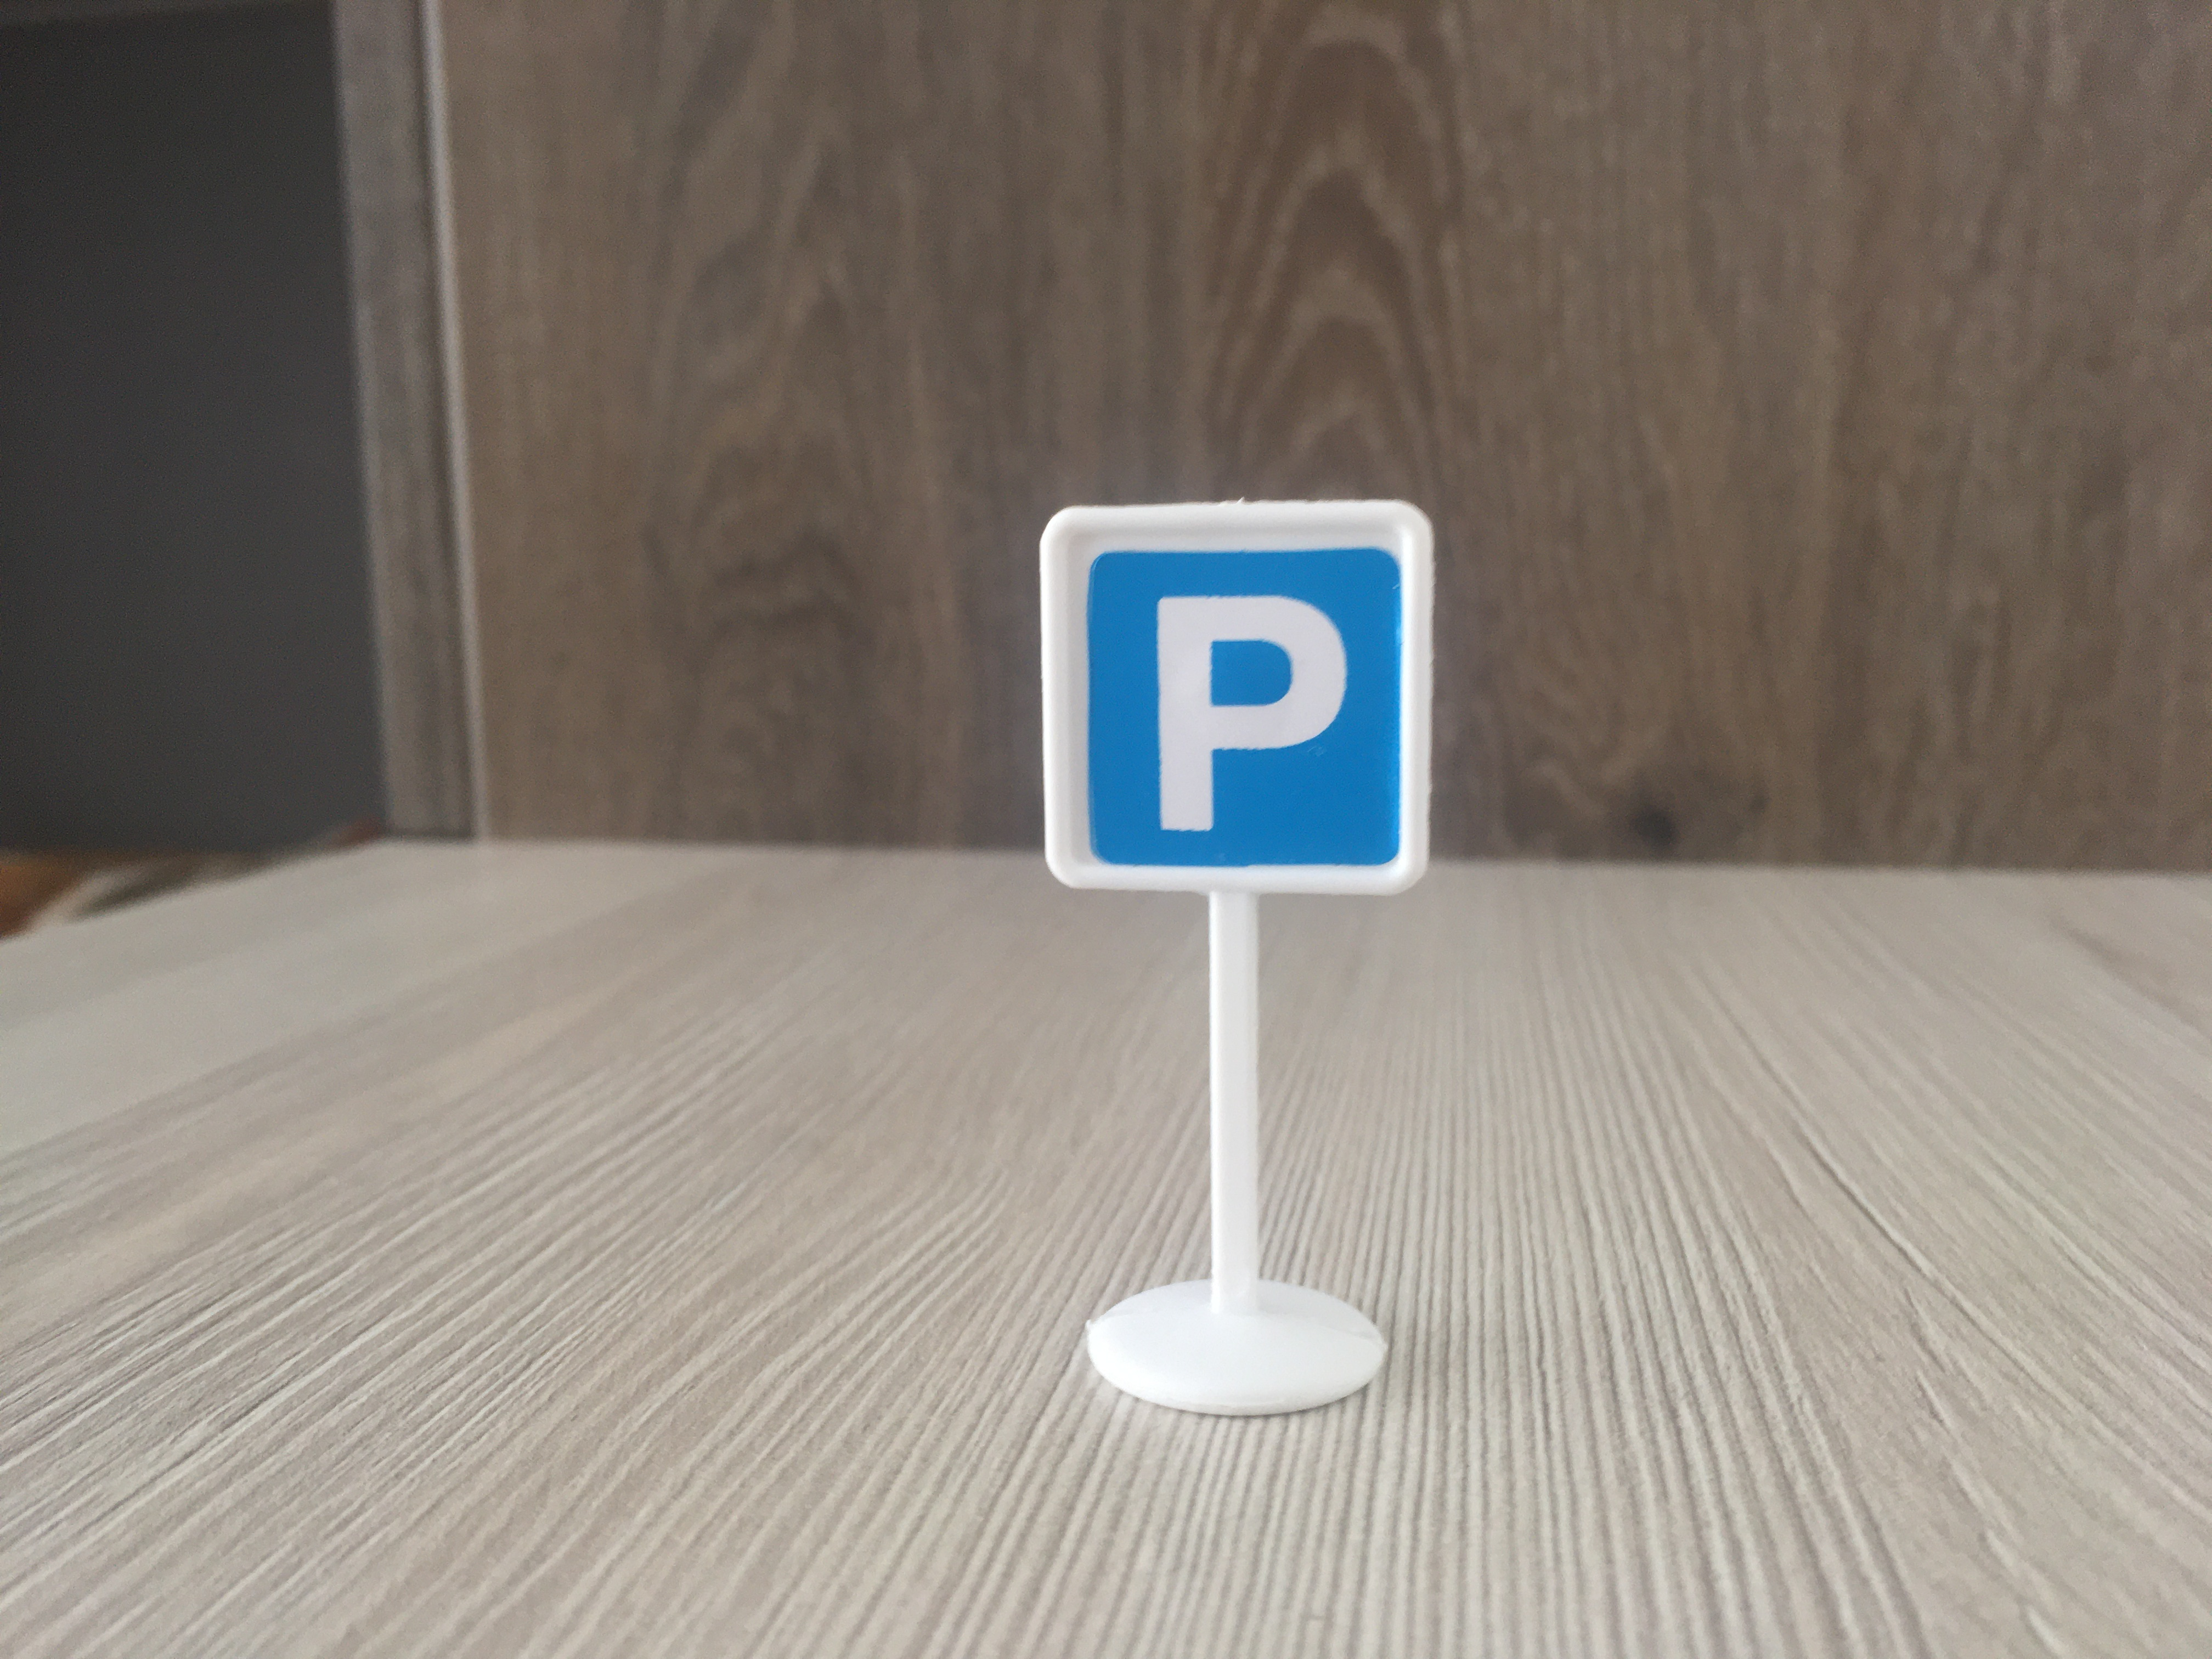parking: (1035, 498, 1439, 901)
